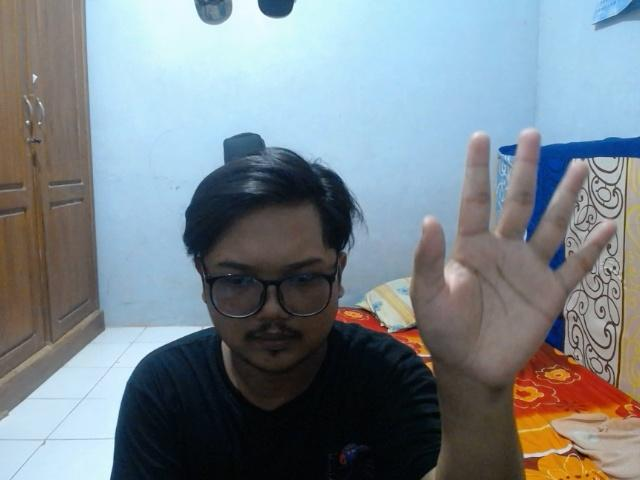Release: (408, 124, 620, 388)
